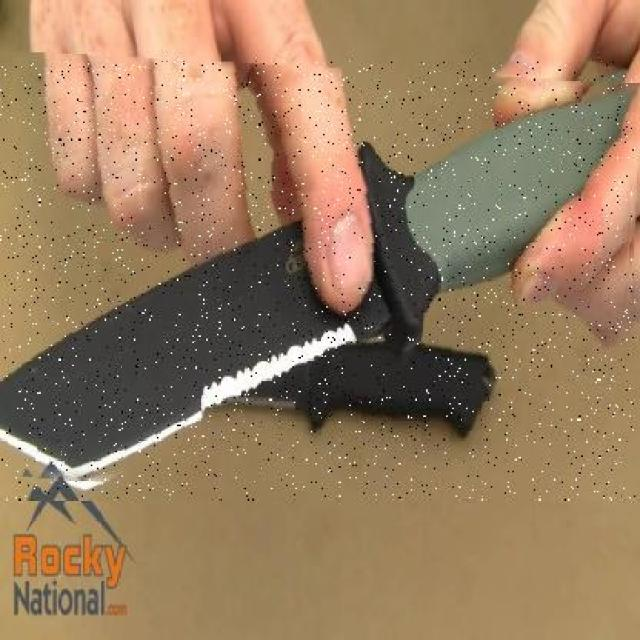knife: (0, 60, 635, 500)
